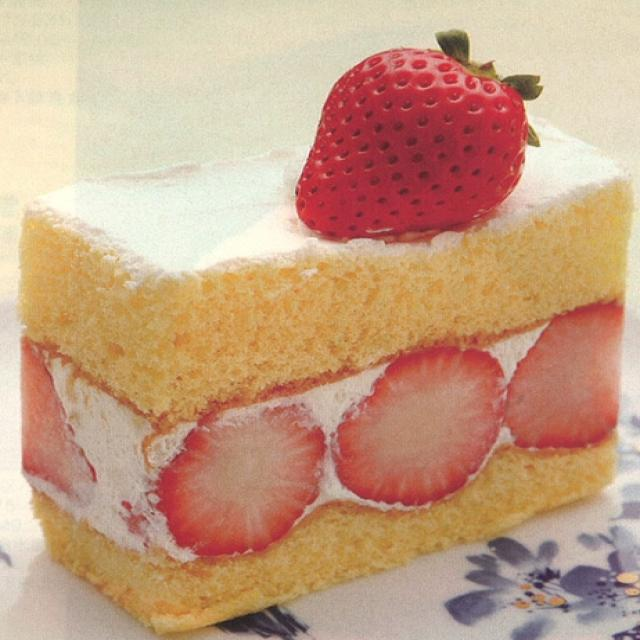蛋糕甜品: (19, 21, 632, 613)
